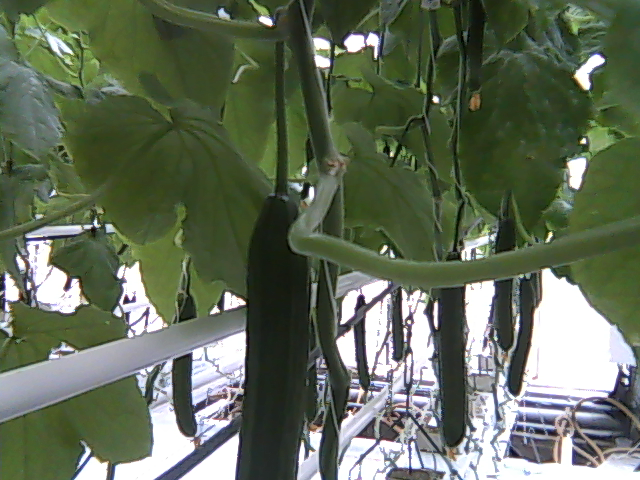concombre: (234, 169, 315, 480), (435, 240, 471, 462)
